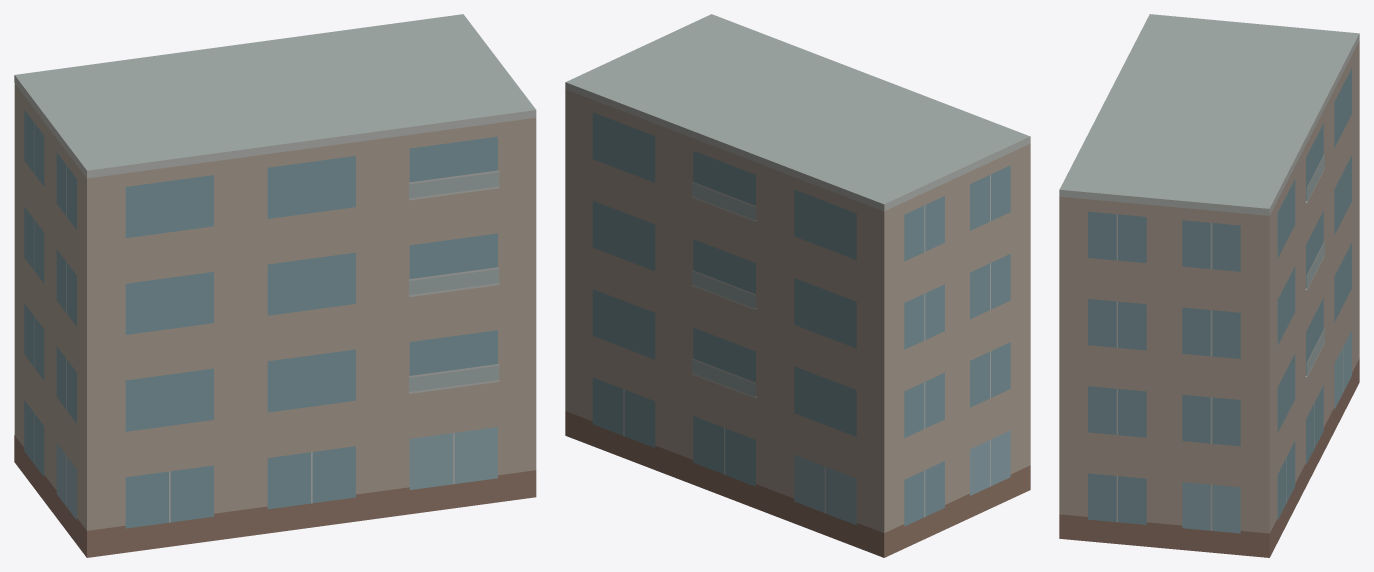
The model's file is residential-05483e66-c38f-4285-abc6-14204af6f015.glb.
The picture shows the model from 3 angles, left to right: view 1: azimuth 30°, elevation 25°; view 2: azimuth 150°, elevation 25°; view 3: azimuth 270°, elevation 25°; orthographic projection. The views are drawn at different scales.
Visible parts, largest first — view 1: residential-05483e66-c38f-4285-abc6-14204af6f015.tmp; view 2: residential-05483e66-c38f-4285-abc6-14204af6f015.tmp; view 3: residential-05483e66-c38f-4285-abc6-14204af6f015.tmp.
Boxes of the visible parts, x1=… form: residential-05483e66-c38f-4285-abc6-14204af6f015.tmp: x1=14, y1=14, x2=536, y2=557; residential-05483e66-c38f-4285-abc6-14204af6f015.tmp: x1=565, y1=14, x2=1030, y2=557; residential-05483e66-c38f-4285-abc6-14204af6f015.tmp: x1=1059, y1=14, x2=1359, y2=557.
Size of the model in its own units: 14.62 by 12.2 by 9.52.
